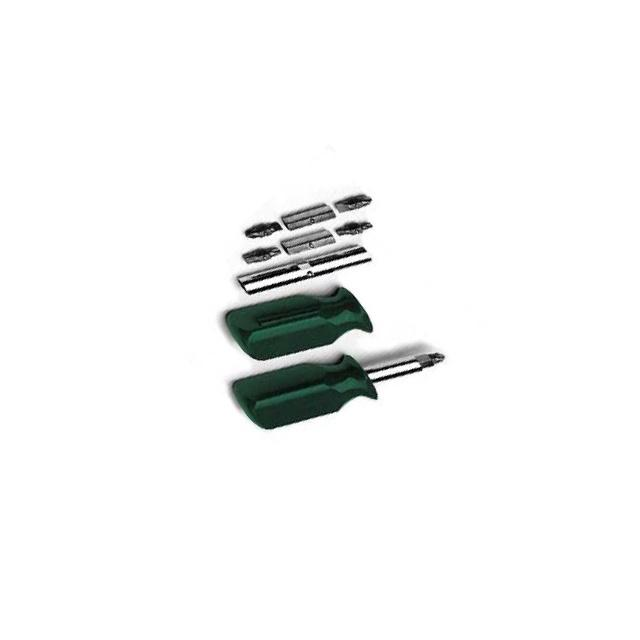screwdriver: (215, 256, 454, 492)
